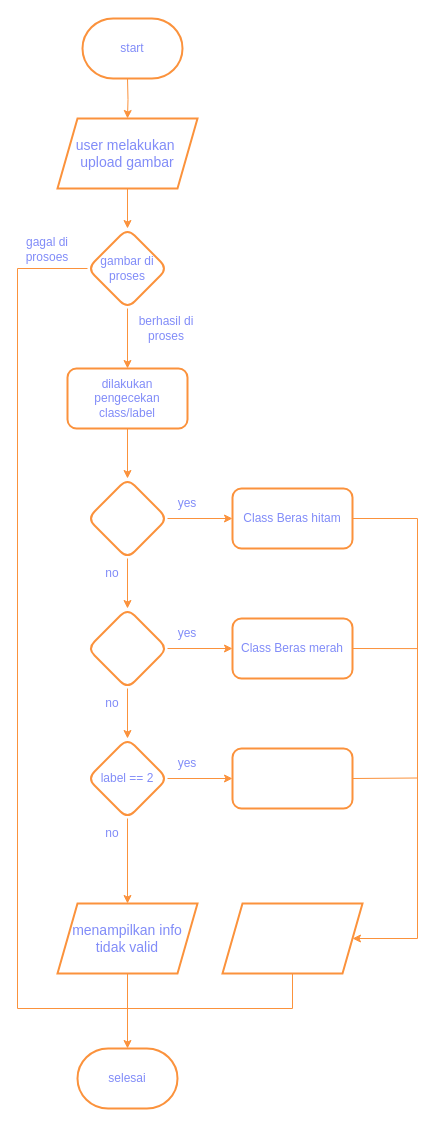
The diagram is 443 pixels wide and 1126 high, and some of its shapes have lost their labels. Here are the shapes that lost their labels. From the top down, the box of each, then its label:
(86, 477, 168, 559): label == 0
(86, 607, 168, 689): label == 1
(231, 747, 353, 809): Class Beras putih
(221, 902, 363, 974): menampilkan informasi class
